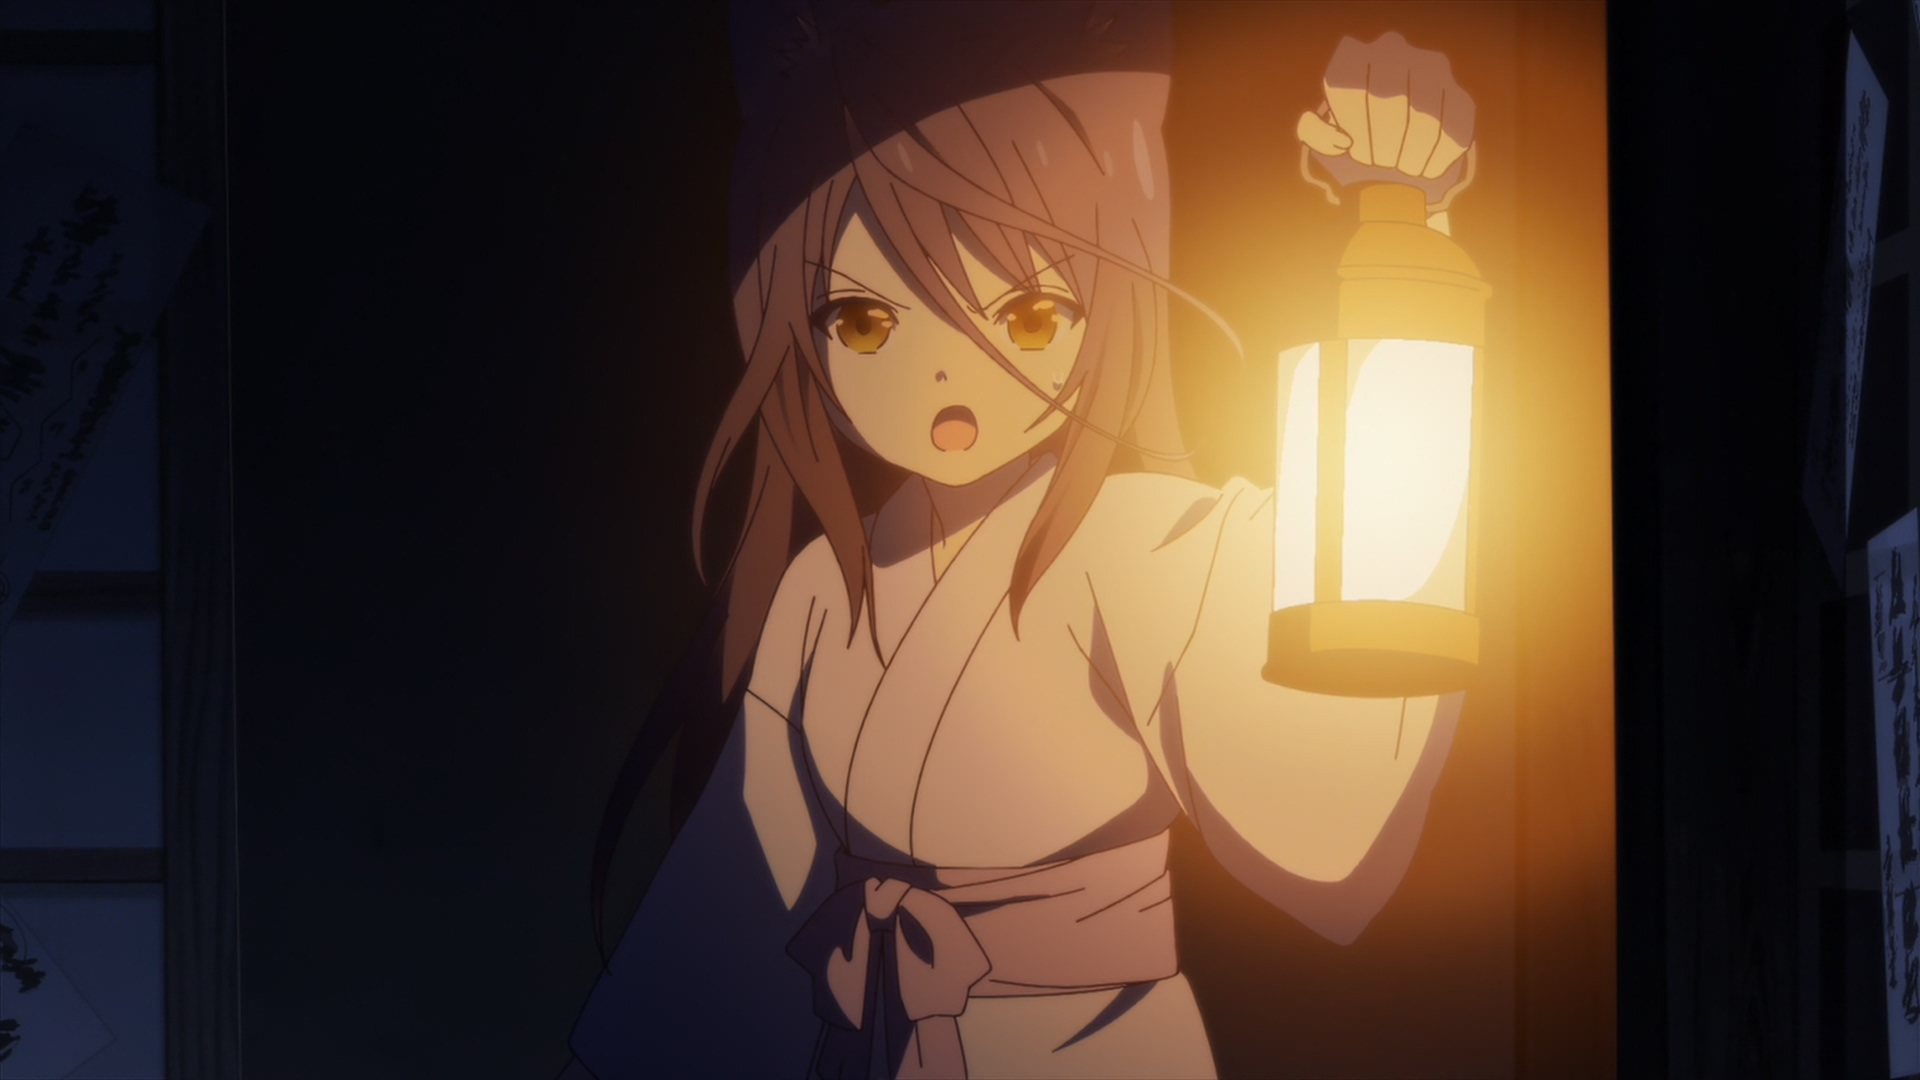皋: (576, 1, 1491, 1080)
